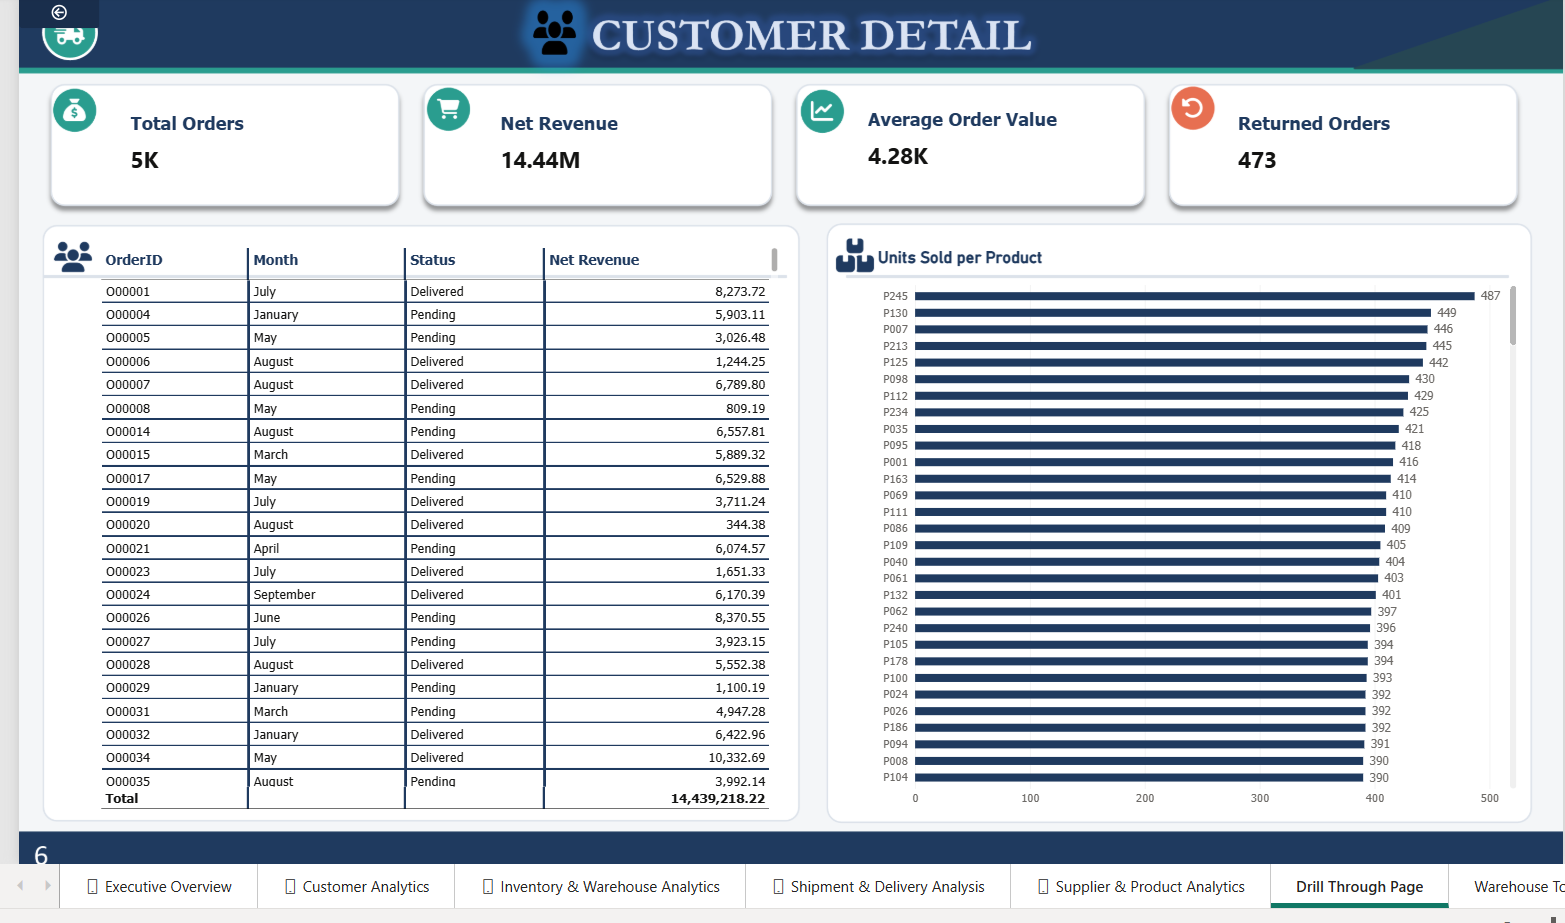

The page's visual inventory and layout, read from the dashboard file:
{"tool":"powerbi","page":{"name":"Drill Through Page","canvas":[1920,1080],"ordinal":5},"visuals":[{"type":"actionButton","box":[0,0,100,40],"z":0},{"type":"tableEx","fields":{"Values":["Orders.OrderID","Orders.OrderDate.Variation.Date Hierarchy.Month","Orders.Status","Customers.Net Revenue"]},"box":[85.4,298.1,874.3,728.6],"z":1000},{"type":"barChart","title":"Units Sold per Product","fields":{"Category":["Products.ProductID"],"Y":["Order_Items.Units Sold"]},"box":[1051.9,298.1,825.7,728.6],"z":2000},{"type":"cardVisual","fields":{"Data":["Customers.Net Revenue"]},"box":[582.9,115.6,316.6,137.3],"z":3000},{"type":"cardVisual","fields":{"Data":["Orders.Total Orders"]},"box":[122.3,115.6,316.6,137.3],"z":4000},{"type":"cardVisual","fields":{"Data":["Orders.Average Order Value"]},"box":[1040.1,115.6,324.9,129],"z":5000},{"type":"cardVisual","fields":{"Data":["Returns.Returned Orders"]},"box":[1500.8,115.6,353.4,137.3],"z":6000}]}

Visuals, with their boxes on the page's 1920x1080 design canvas (x1, y1, x2, y2). These are canvas units, not pixel positions in the 1565x923 screenshot, which may show the page scaled, cropped or inside an application window:
actionButton: box(0, 0, 100, 40)
tableEx - Orders.OrderID x Orders.OrderDate.Variation.Date Hierarchy.Month: box(85, 298, 960, 1027)
"Units Sold per Product" barChart: box(1052, 298, 1878, 1027)
cardVisual - Customers.Net Revenue: box(583, 116, 900, 253)
cardVisual - Orders.Total Orders: box(122, 116, 439, 253)
cardVisual - Orders.Average Order Value: box(1040, 116, 1365, 245)
cardVisual - Returns.Returned Orders: box(1501, 116, 1854, 253)
